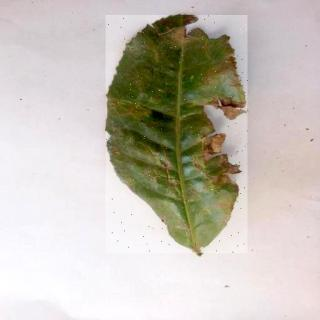Algal Leaf: (107, 16, 249, 255)
